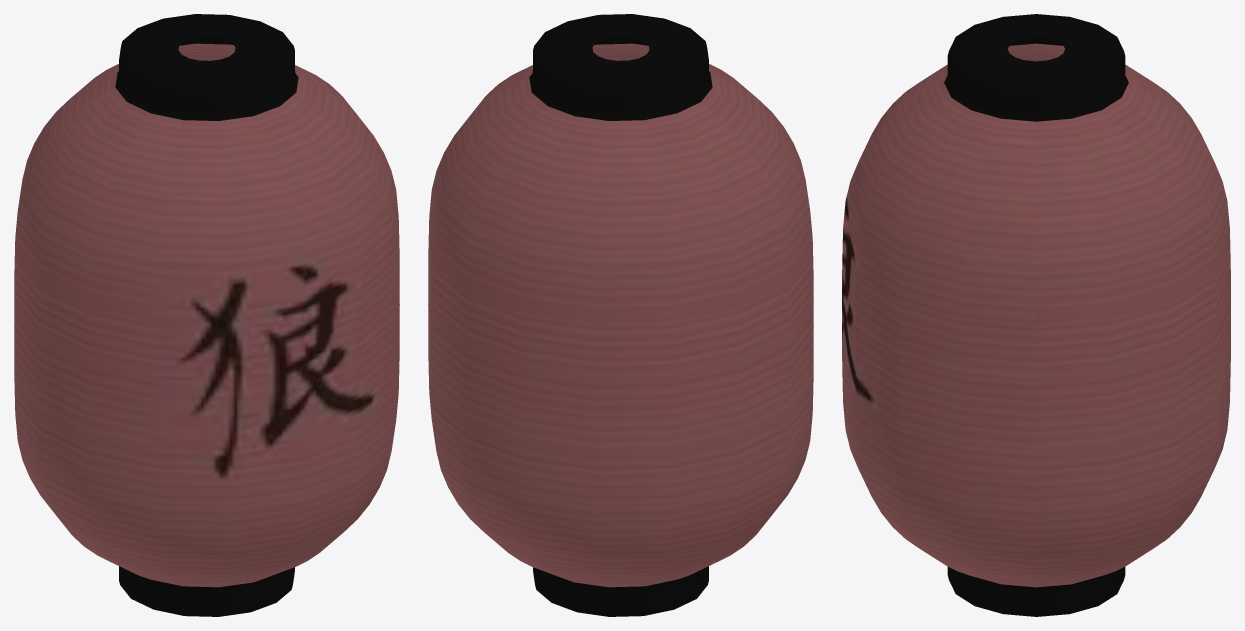
The model's file is lantern.glb.
3 views of the same model, side by side, from view 1: azimuth 30°, elevation 25°; view 2: azimuth 150°, elevation 25°; view 3: azimuth 270°, elevation 25° (orthographic).
Visible parts, largest first — view 1: Object_2; view 2: Object_2; view 3: Object_2.
Boxes of the visible parts, box(x1,y1,x2,y2) form: Object_2: box(14, 14, 399, 616); Object_2: box(428, 14, 813, 616); Object_2: box(842, 14, 1230, 616).
Size of the model in its own units: 1.23 by 1.85 by 1.23.
1 material, 1 textured.
